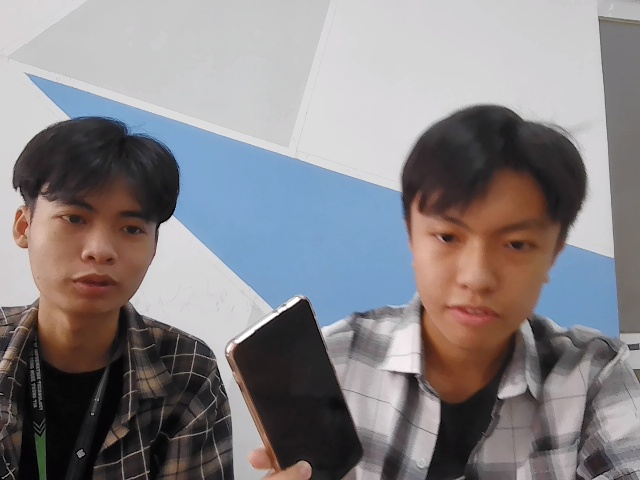human: (404, 103, 581, 356), (13, 122, 181, 321)
phone: (220, 295, 369, 480)
